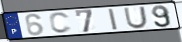6: (24, 13, 47, 37)
7: (74, 8, 95, 33)
9: (151, 4, 173, 29)
C: (48, 12, 74, 35)
I: (107, 8, 120, 32)
U: (123, 6, 149, 30)
